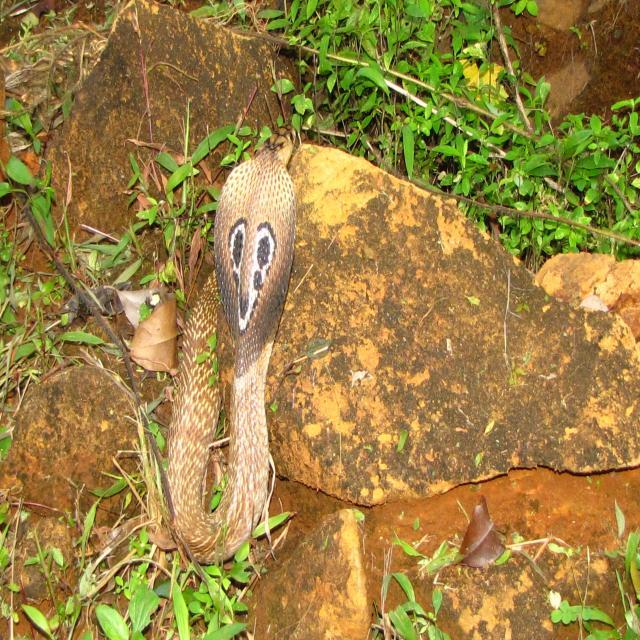Snake: (162, 123, 302, 567)
